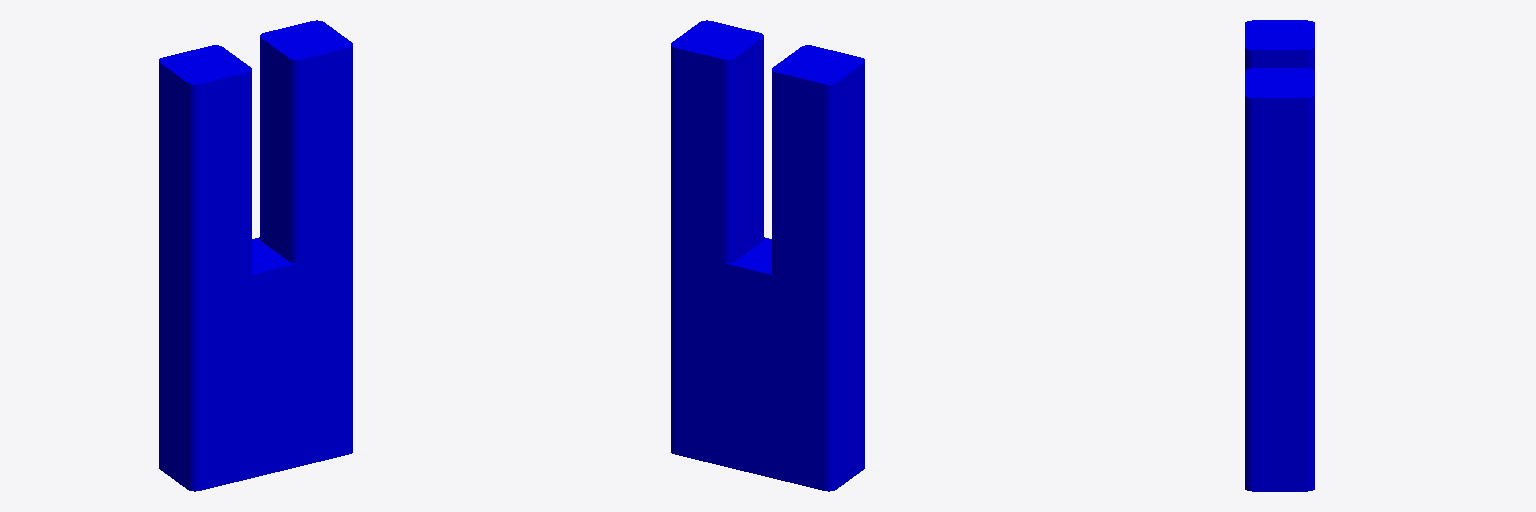
The robot description file, URDF, robot "board1_block11":
<?xml version="1.0"?>
<robot name="board1_block11">
    <link name="board1_block11">
        <visual>
            <origin xyz="0 0 0 " rpy=" 0 0 0"/>
            <geometry>
                <mesh filename="../meshes/SIMO_Board1_Block11.stl" scale="0.001 0.001 0.001"/>
            </geometry>
            <material name="red">
                <color rgba="0.0 0.0 1.0 1.0"/>
            </material>
        </visual>
        <collision>
            <origin xyz="0 0 0" rpy="0 0 0"/>
            <geometry>
                <mesh filename="../meshes/SIMO_Board1_Block11.stl" scale="0.001 0.001 0.001"/>
            </geometry>
        </collision>
    </link>
</robot>

--- Facts derived from the render (not from the file) ---
3 views of the same robot in one strip: view 1: azimuth 30°, elevation 25°; view 2: azimuth 150°, elevation 25°; view 3: azimuth 270°, elevation 25° (orthographic).
Robot: board1_block11 — 1 links, 0 joints (none); root link board1_block11; default pose: every joint at zero.
Visible links, largest first — view 1: board1_block11; view 2: board1_block11; view 3: board1_block11.
Link boxes in pixels (x1=…): board1_block11: x1=159, y1=20, x2=352, y2=491; board1_block11: x1=671, y1=20, x2=864, y2=491; board1_block11: x1=1245, y1=20, x2=1314, y2=491.
Bounding box of the posed robot: 0.0636 × 0.0245 × 0.15 m (x, y, z).
1 mesh visuals loaded from 1 distinct referenced files (1 ASCII STL).